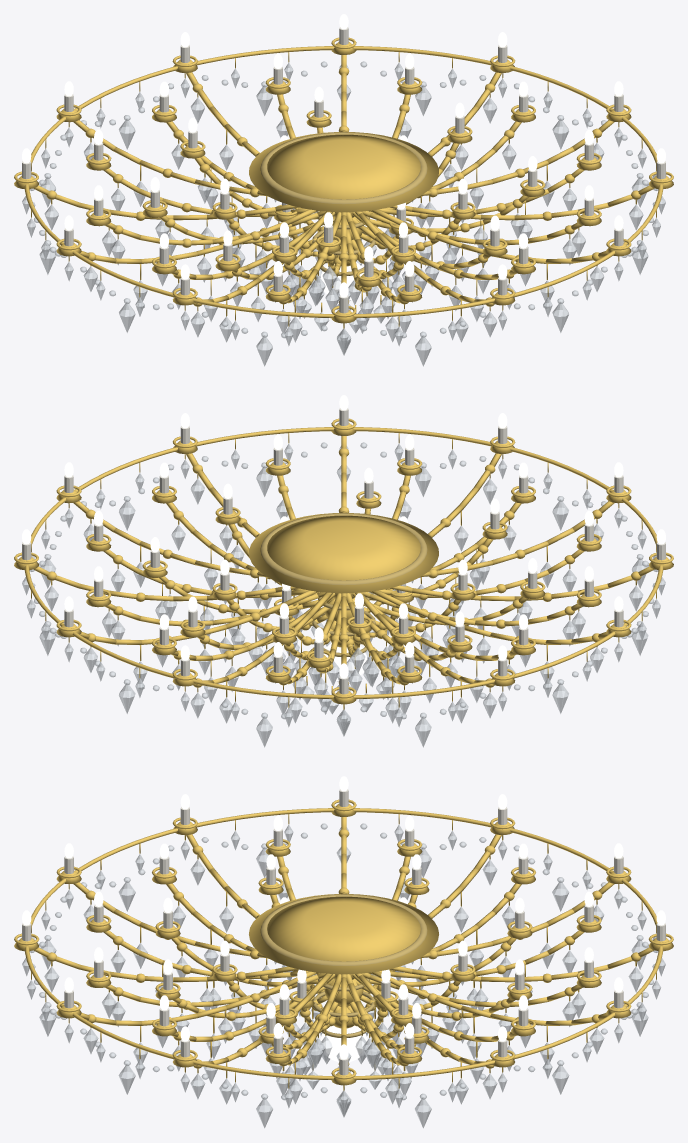
The model's file is chandelier.glb.
The picture shows the model from 3 angles, top to bottom: view 1: azimuth 30°, elevation 25°; view 2: azimuth 150°, elevation 25°; view 3: azimuth 270°, elevation 25°; orthographic projection.
Visible parts, largest first — view 1: Gold, Crystals, Bulb_Center; view 2: Gold, Crystals, Bulb_Center; view 3: Gold, Crystals, Bulb_Center.
Part boxes in pixels (x1,y1,x2,y2): Gold: (14, 27, 673, 328); Crystals: (22, 61, 665, 366); Bulb_Center: (320, 262, 364, 300); Gold: (14, 408, 673, 709); Crystals: (22, 442, 665, 747); Bulb_Center: (323, 643, 367, 681); Gold: (14, 789, 673, 1090); Crystals: (22, 823, 665, 1128); Bulb_Center: (320, 1025, 367, 1062).
Bounding box in the file's own units: 1.66 × 0.4844 × 1.66.
